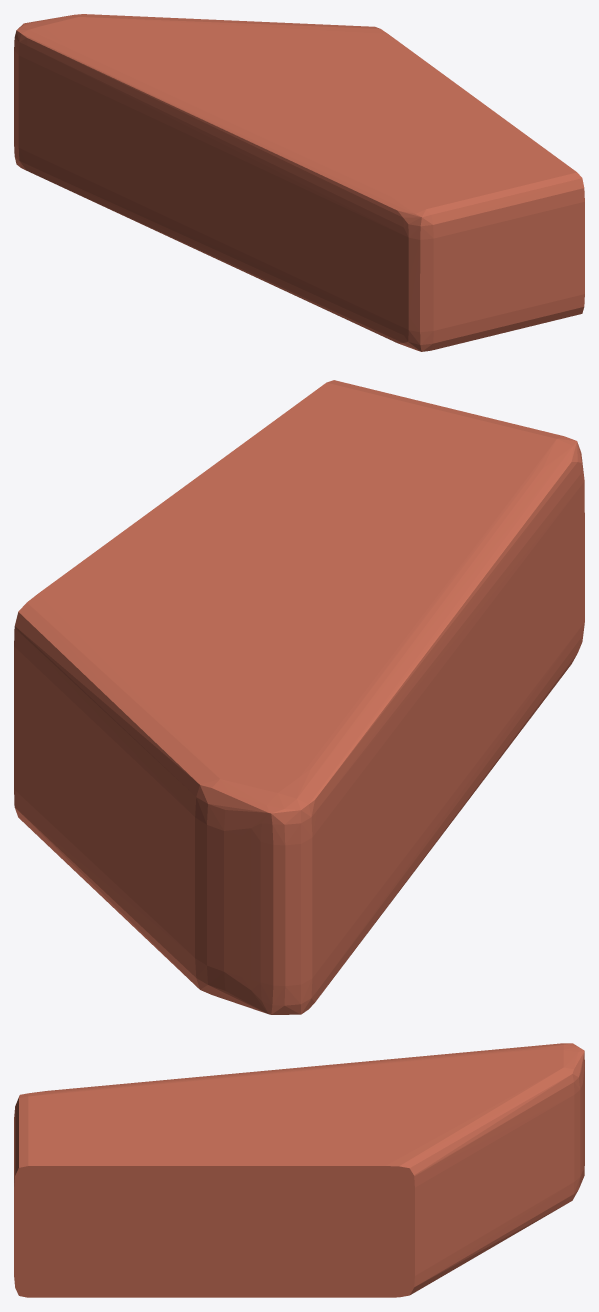
The model's file is right_hip_pitch_link_part_9.obj.
3 renders of one model, top to bottom at view 1: azimuth 30°, elevation 25°; view 2: azimuth 150°, elevation 25°; view 3: azimuth 270°, elevation 25°, orthographic. The views are drawn at different scales.
Size of the model in its own units: 0.0357 by 0.0173 by 0.0681.
